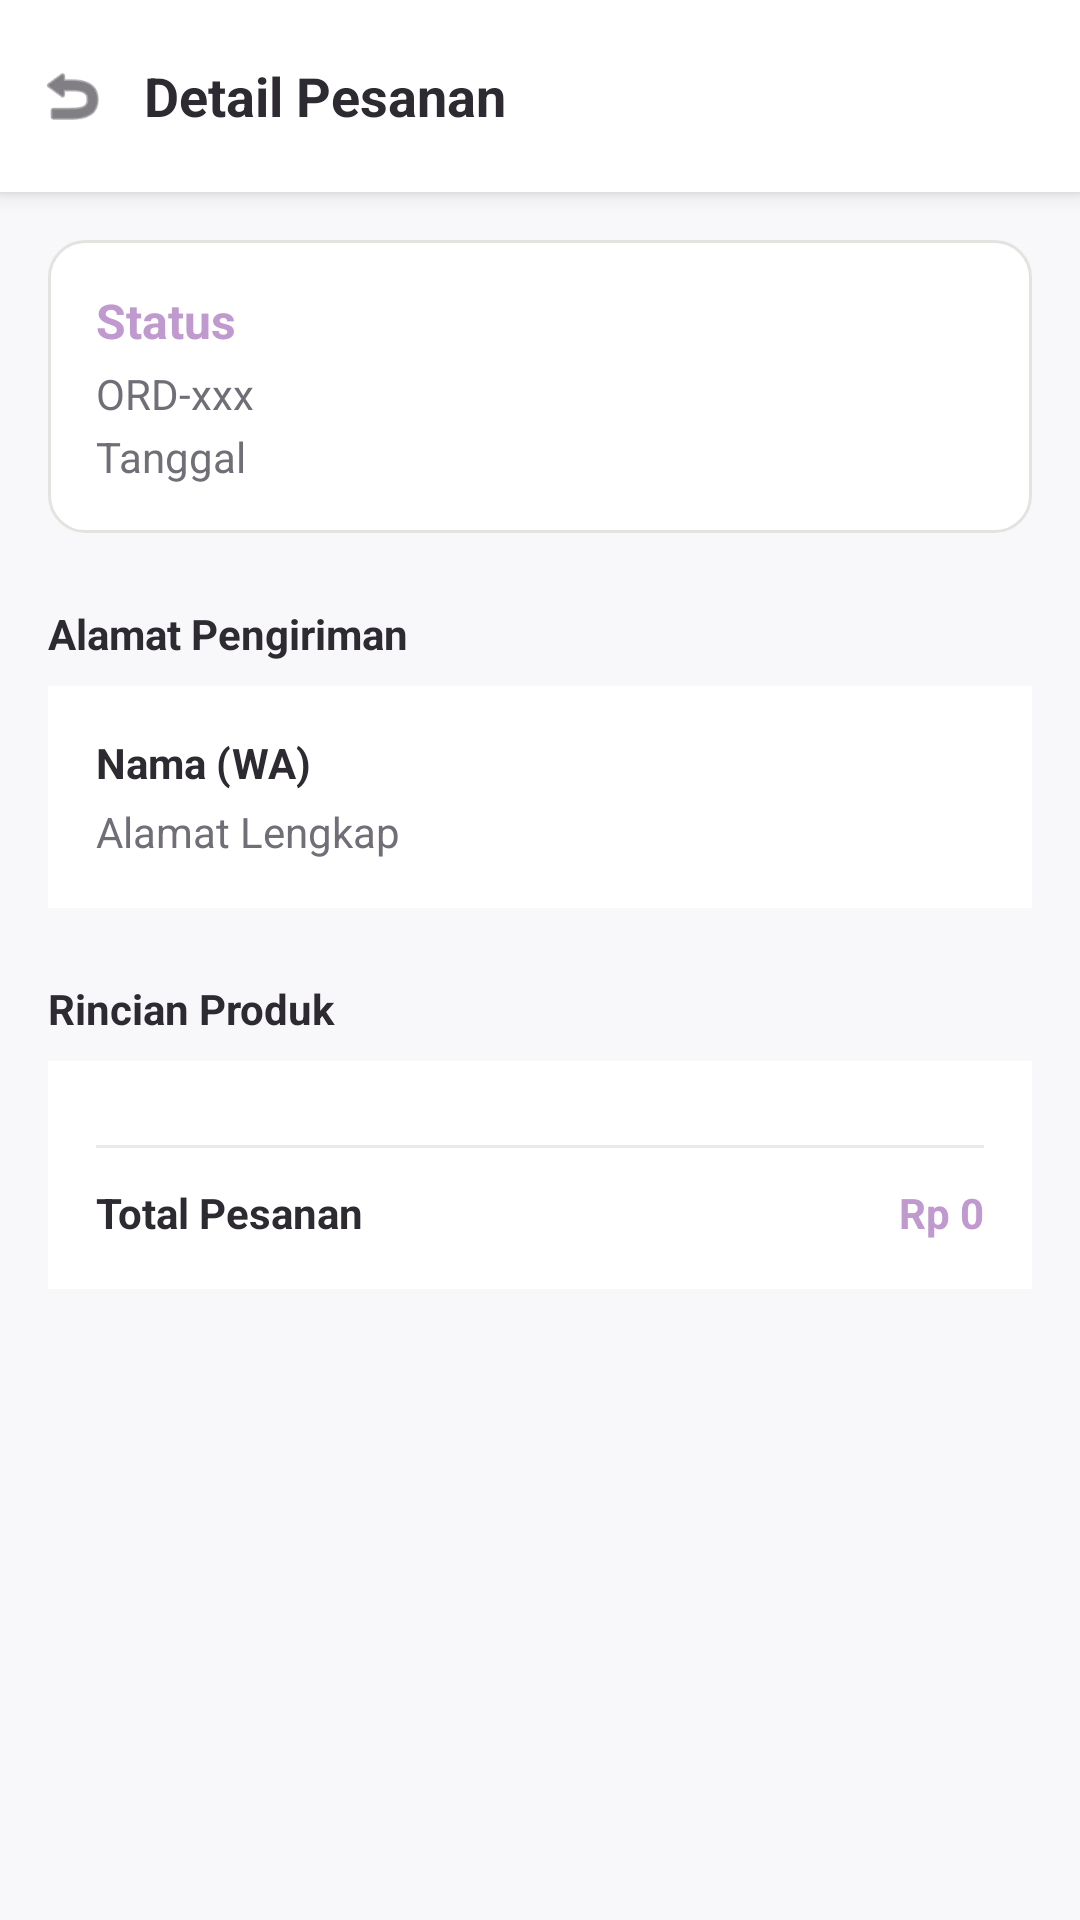

Icons on this 1080×1920 Android screen, each with the point to tap as [x,y]:
revert: [73,96]
